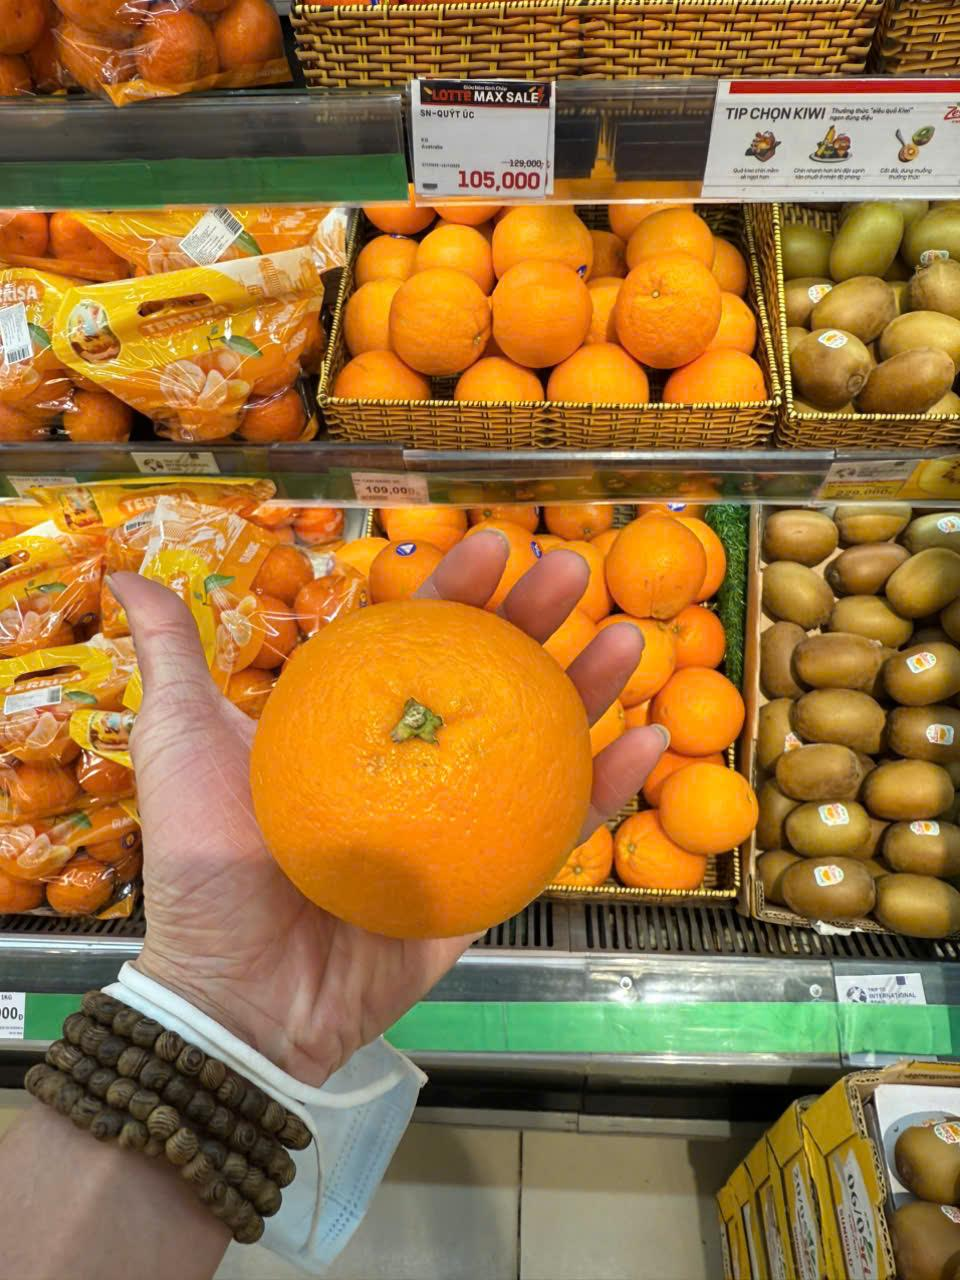orange: (250, 586, 604, 959), (612, 251, 726, 390), (382, 270, 494, 388), (487, 255, 596, 370), (600, 520, 716, 626), (645, 665, 747, 766), (652, 775, 763, 862)
